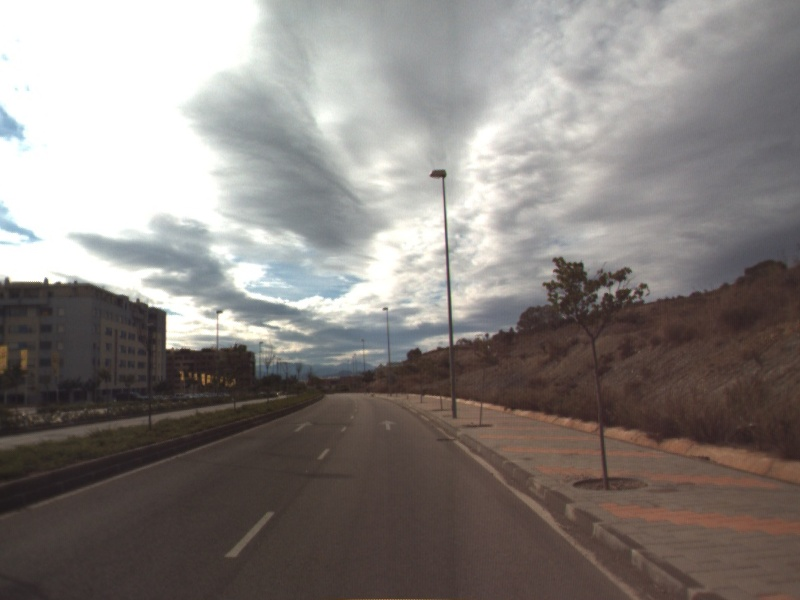STRAIGHT: (292, 419, 315, 434), (377, 418, 399, 432)
